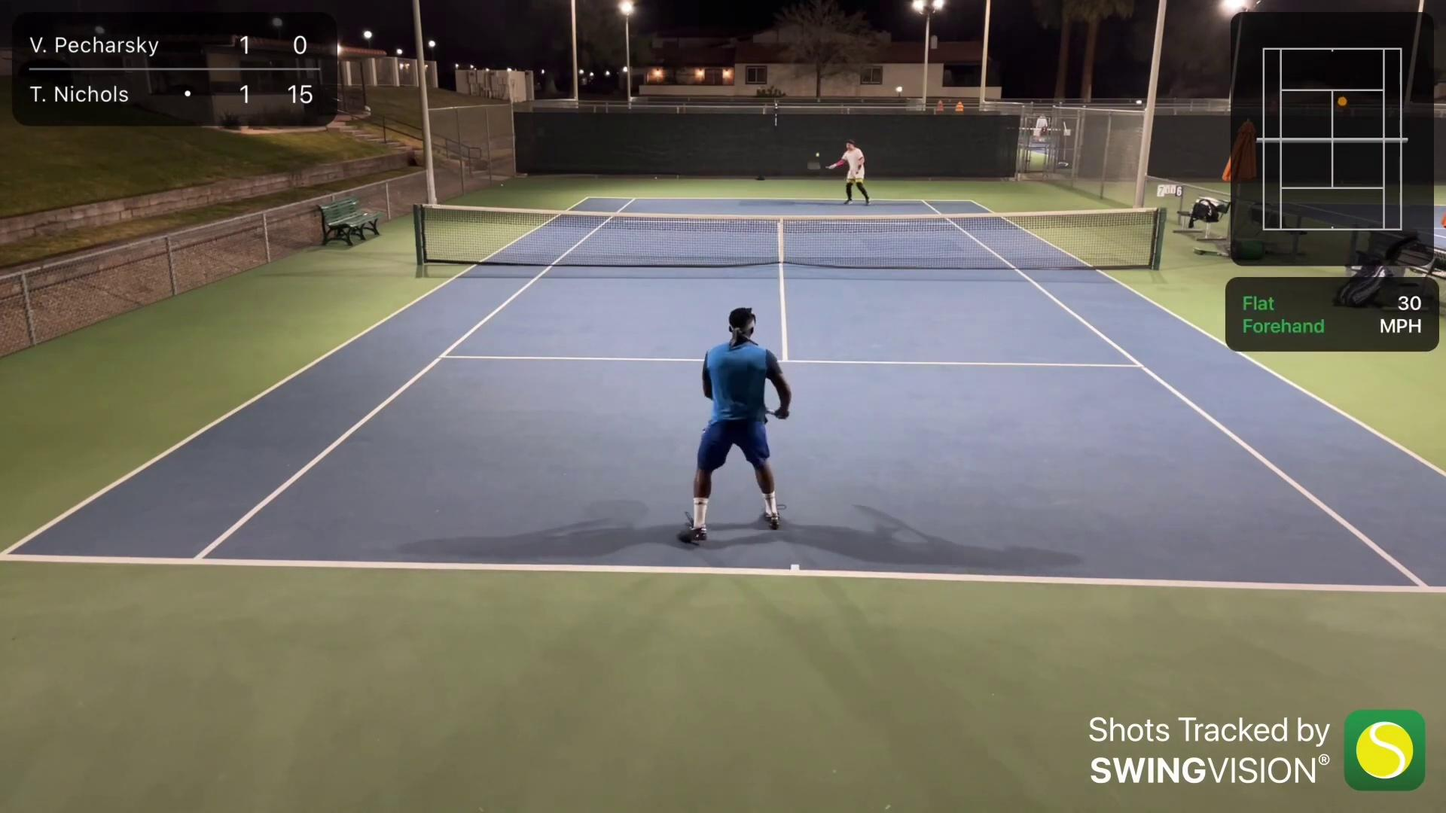ball: (813, 152, 822, 158)
